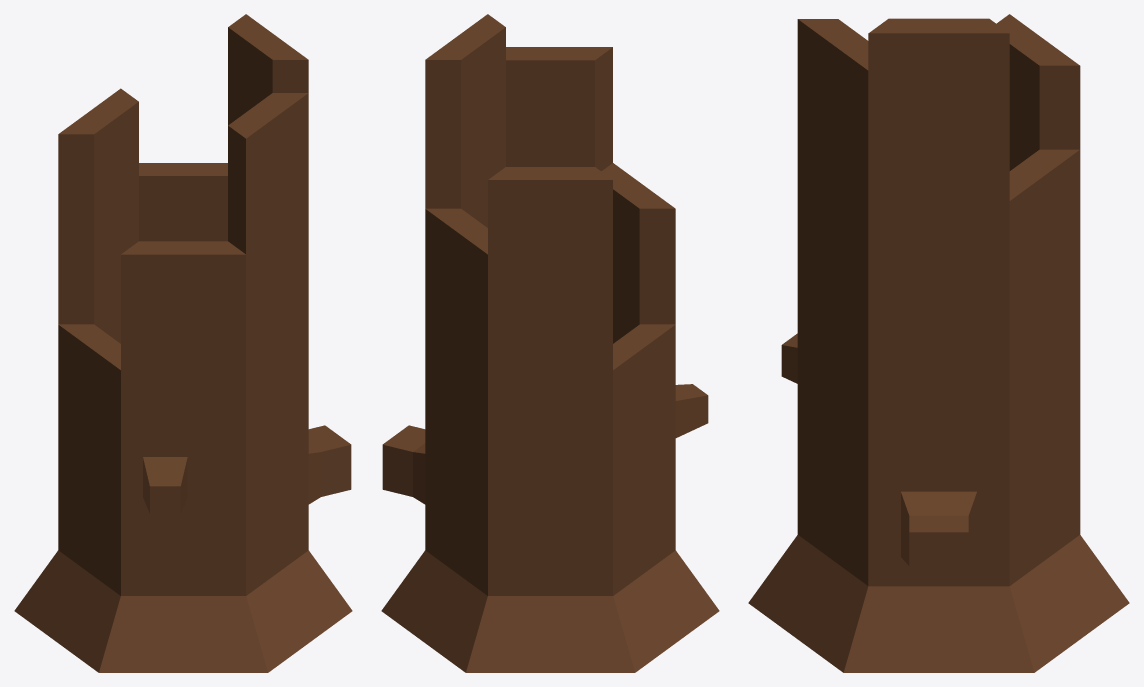
The model's file is stump_old_tall.glb.
3 renders of one model, left to right at view 1: azimuth 30°, elevation 25°; view 2: azimuth 150°, elevation 25°; view 3: azimuth 270°, elevation 25°, orthographic. The views are drawn at different scales.
Visible parts, largest first — view 1: stump_oldTall; view 2: stump_oldTall; view 3: stump_oldTall.
Boxes of the visible parts, x1,y1,x2,y2 form: stump_oldTall: (14, 14, 352, 672); stump_oldTall: (381, 14, 719, 672); stump_oldTall: (748, 14, 1129, 672).
Size of the model in its own units: 0.3565 by 0.6665 by 0.371.
